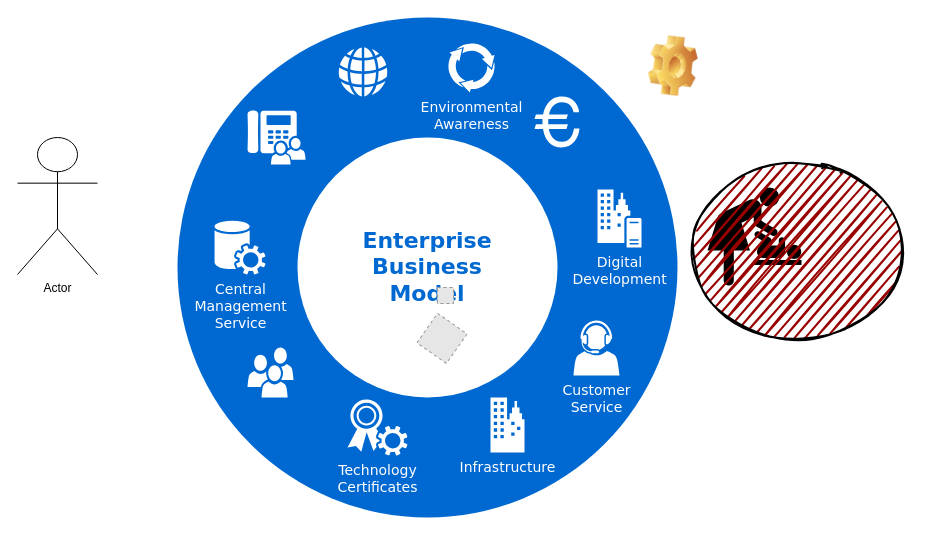
Some shapes in this 926 by 534 pixel diagram are drawn without their labels. Grey dashed boxes stand in for pictures. The shapes that lost their labels are listed below. From the top down, each one's centre as x and y in pixels, then its label:
At point (362, 71): "Global Partnerships".
At point (276, 137): "Response Group".
At point (556, 121): "Finance".
At point (270, 372): "Community".
